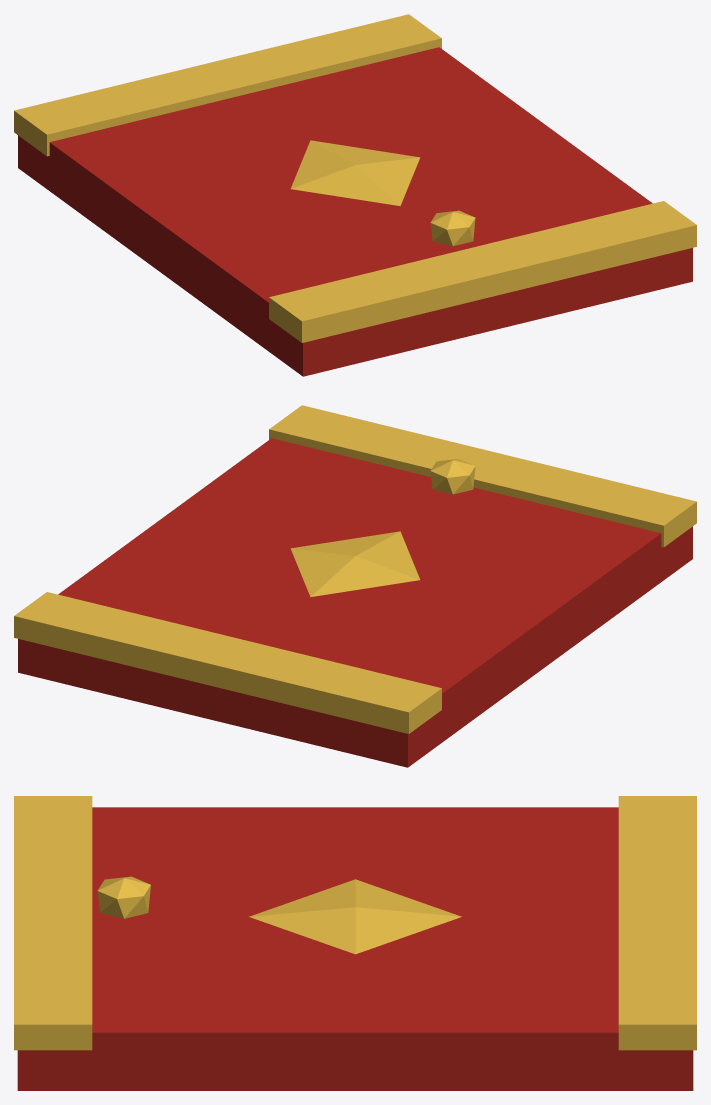
File: drop_cape_attack.glb
3 renders of one model, top to bottom at view 1: azimuth 30°, elevation 25°; view 2: azimuth 150°, elevation 25°; view 3: azimuth 270°, elevation 25°, orthographic. The views are drawn at different scales.
Parts seen in each view (by area): view 1: drop_cape_attack; view 2: drop_cape_attack; view 3: drop_cape_attack.
Part boxes in pixels (x1=…): drop_cape_attack: x1=14, y1=14, x2=696, y2=376; drop_cape_attack: x1=14, y1=405, x2=696, y2=767; drop_cape_attack: x1=14, y1=796, x2=696, y2=1090.
Bounding box in the file's own units: 0.304 × 0.062 × 0.384.
